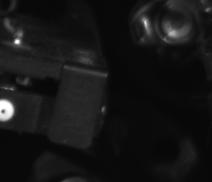fiber: (1, 90, 23, 130)
